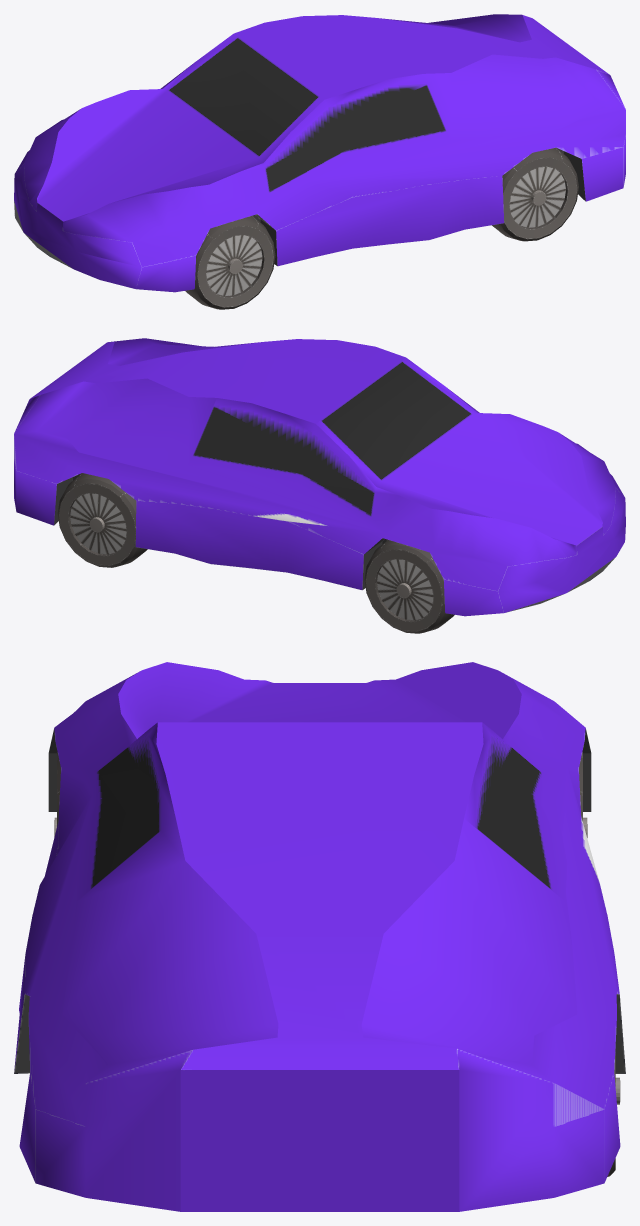
File: NpcVehicle_3.fbx
The picture shows the model from 3 angles, top to bottom: view 1: azimuth 30°, elevation 25°; view 2: azimuth 150°, elevation 25°; view 3: azimuth 270°, elevation 25°; orthographic projection. The views are drawn at different scales.
Visible parts, largest first — view 1: pCube1, pasted__pCylinder1, pasted__pasted__pCylinder1; view 2: pCube1, pasted__pasted__pasted__pCylinder1, pasted__pasted__pCylinder1; view 3: pCube1.
Boxes of the visible parts, x1,y1,x2,y2 form: pCube1: (14, 14, 625, 292); pasted__pCylinder1: (185, 216, 275, 309); pasted__pasted__pCylinder1: (492, 148, 578, 241); pCube1: (14, 338, 625, 616); pasted__pasted__pasted__pCylinder1: (57, 473, 147, 567); pasted__pasted__pCylinder1: (364, 540, 454, 633); pCube1: (14, 662, 625, 1211).
Size of the model in its own units: 934 by 279 by 518.
Materials: 5 (5 with a texture image).
